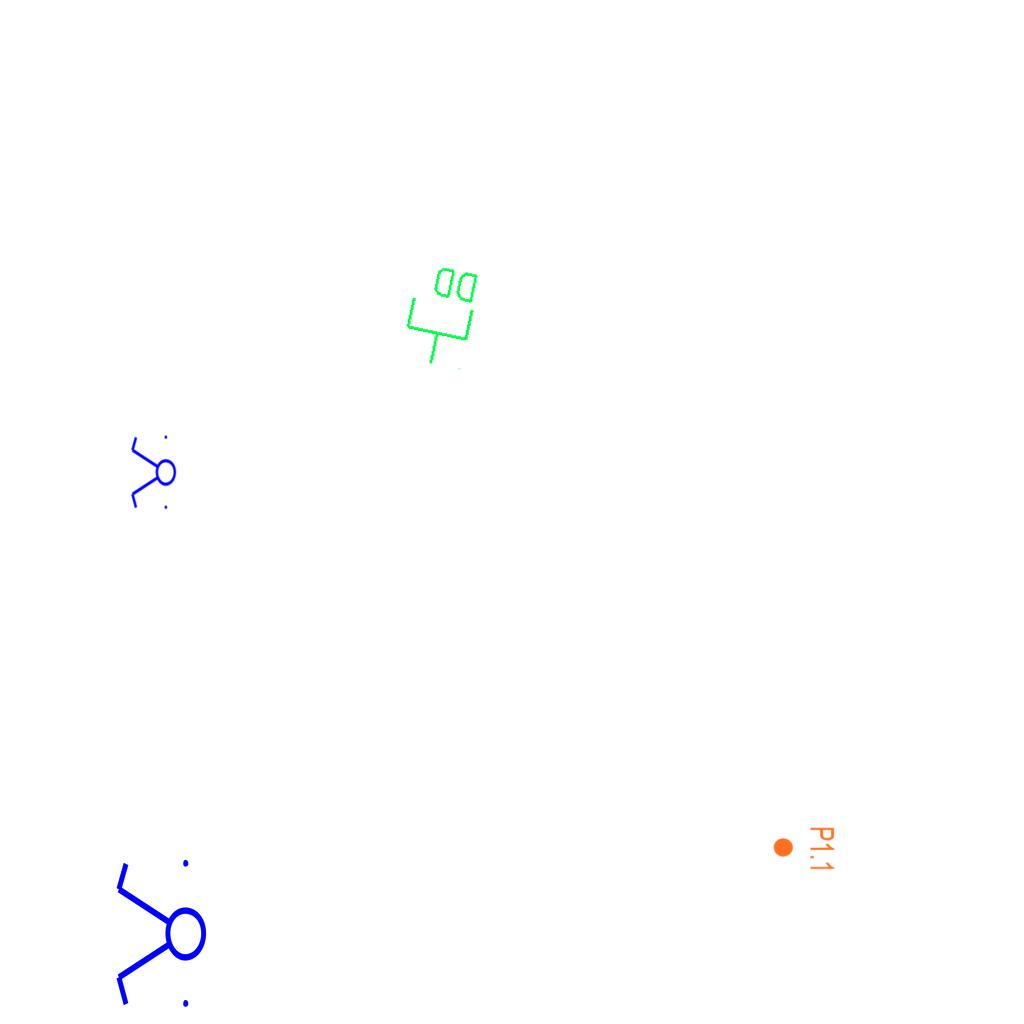Datenanschluss_zweifach: (397, 257, 486, 374)
Downlight_LED_Einbauleuchten_Flur: (772, 826, 836, 872)
Serienschalter: (112, 851, 208, 1019), (129, 431, 177, 515)
